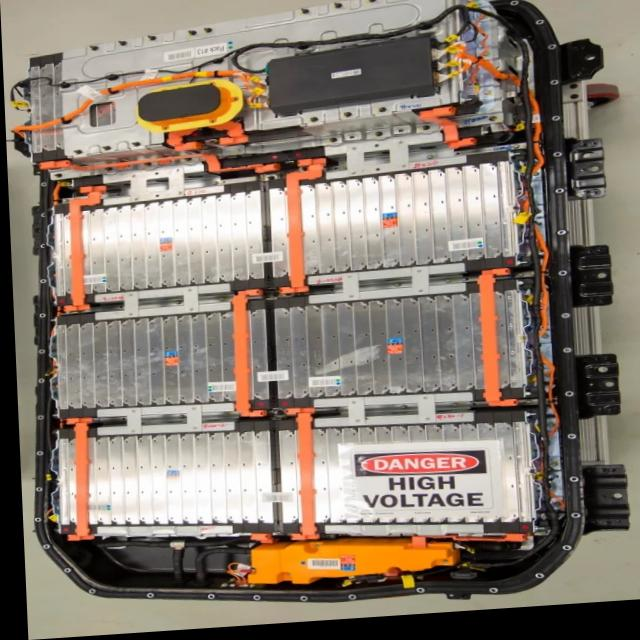Aluminum-frame: (324, 138, 464, 184), (308, 269, 459, 310), (308, 399, 468, 432), (92, 285, 226, 324), (102, 166, 221, 208), (94, 406, 230, 437), (320, 529, 479, 540)
Battery Module: (299, 169, 515, 279), (271, 301, 481, 402), (307, 429, 515, 527), (79, 195, 262, 293), (82, 436, 267, 526), (54, 315, 231, 409)
Bolt: (444, 408, 460, 415), (506, 150, 520, 157), (394, 409, 406, 417), (422, 159, 435, 166), (377, 163, 390, 170), (229, 152, 241, 159), (206, 182, 217, 189), (389, 286, 401, 292), (167, 302, 179, 308), (481, 96, 490, 104), (214, 298, 224, 305), (172, 416, 182, 423), (217, 415, 228, 421)
Bus-bar: (278, 164, 323, 298), (475, 276, 514, 413), (61, 187, 103, 313), (39, 156, 280, 177), (230, 293, 262, 419), (283, 411, 313, 544), (62, 418, 90, 541), (418, 112, 474, 155), (208, 126, 246, 148), (167, 132, 202, 154)
Cable: (20, 73, 266, 131), (444, 49, 541, 182), (533, 237, 547, 347)
Nut: (112, 40, 132, 49), (144, 36, 160, 46), (68, 148, 82, 158), (183, 31, 197, 41), (202, 28, 214, 39), (96, 145, 112, 153), (125, 141, 139, 150), (84, 45, 98, 54), (369, 136, 385, 143), (331, 6, 345, 14), (326, 141, 339, 149), (368, 0, 378, 10), (304, 120, 318, 127), (300, 12, 311, 20), (376, 111, 387, 118), (419, 130, 430, 137), (341, 116, 353, 122)
